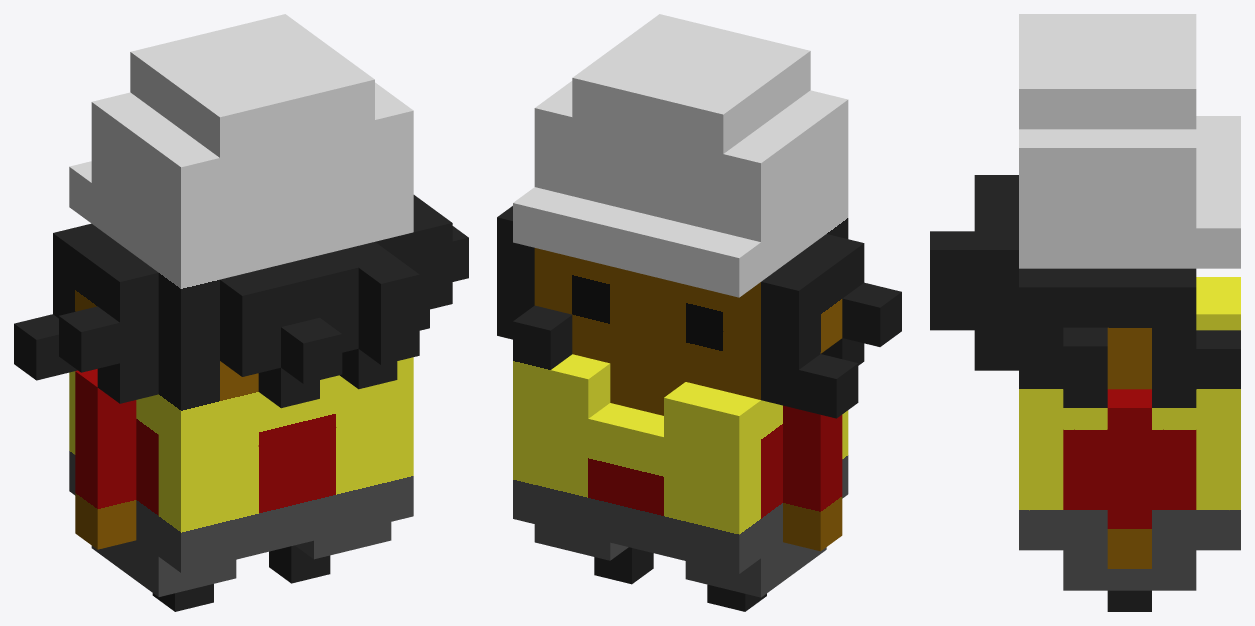
Rendered from chr_worker2.dae.
The picture shows the model from 3 angles, left to right: view 1: azimuth 30°, elevation 25°; view 2: azimuth 150°, elevation 25°; view 3: azimuth 270°, elevation 25°; orthographic projection. The views are drawn at different scales.
Visible parts, largest first — view 1: chr_worker2; view 2: chr_worker2; view 3: chr_worker2.
Part boxes in pixels (<box>): chr_worker2: <box>14,14,468,611</box>; chr_worker2: <box>497,14,901,611</box>; chr_worker2: <box>930,14,1240,611</box>.
Size of the model in its own units: 1 by 0.7 by 1.3.
